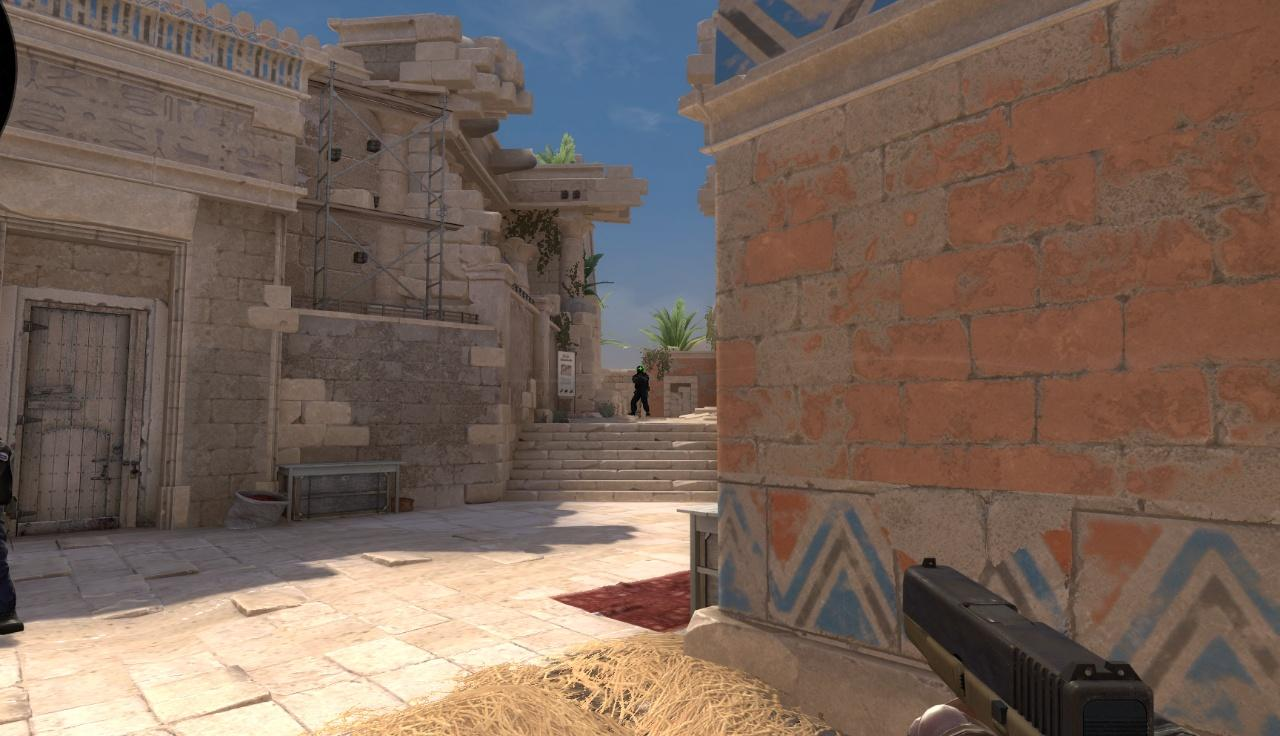ct: (629, 366, 651, 417)
cthead: (636, 365, 644, 375)
pistol: (899, 558, 1158, 733)
